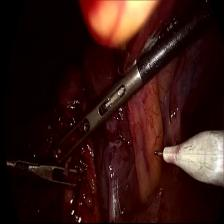Grasper: (50, 63, 141, 167), (15, 158, 86, 189)
Hook: (149, 127, 224, 188)
